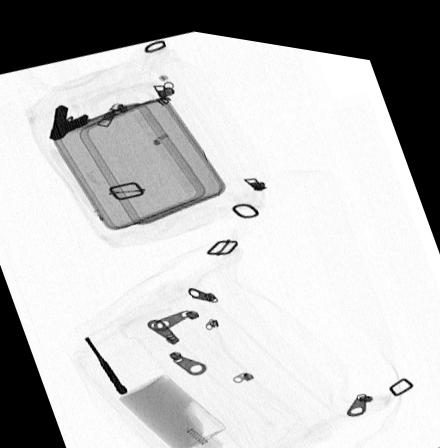Gun: (82, 332, 127, 389), (49, 100, 88, 137)
